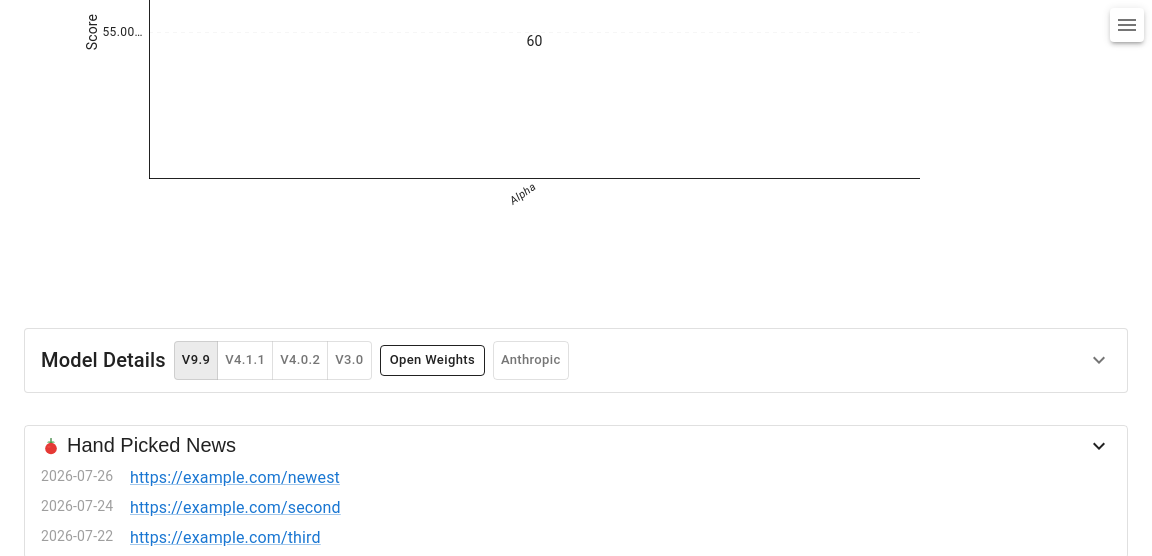
Test case: Dashboard › links from a historical chart view to the expanded historical charts section
(page scrolled)
Check: the link "Scores and costs predate the current index version" is not shown
Click the button "v3.0": (349, 360) [327,341,372,380]
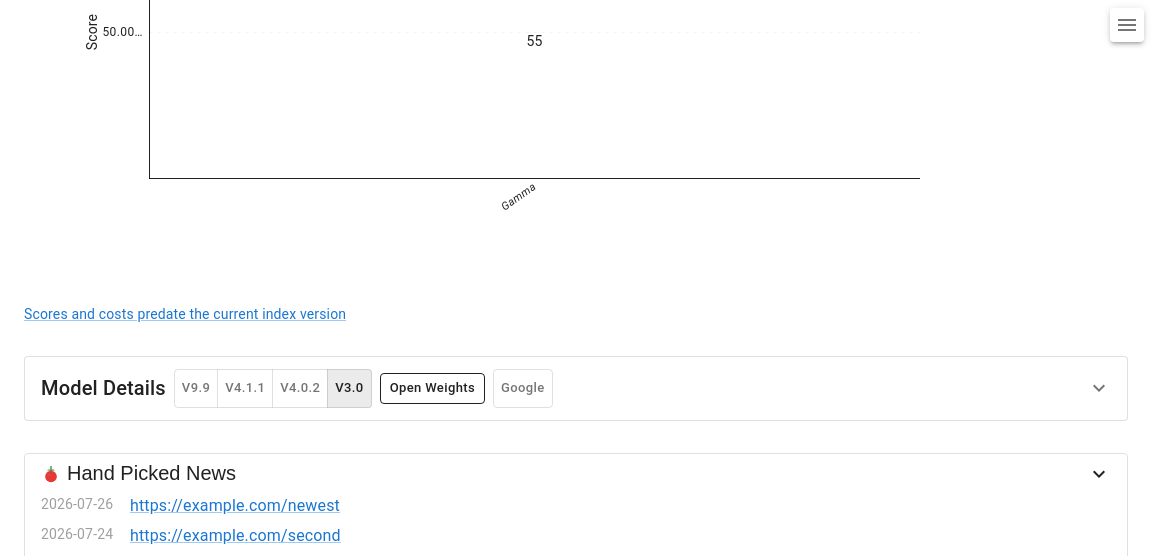
Click the link "Scores and costs predate the current index version": (185, 314) [24,306,346,322]
(page scrolled)
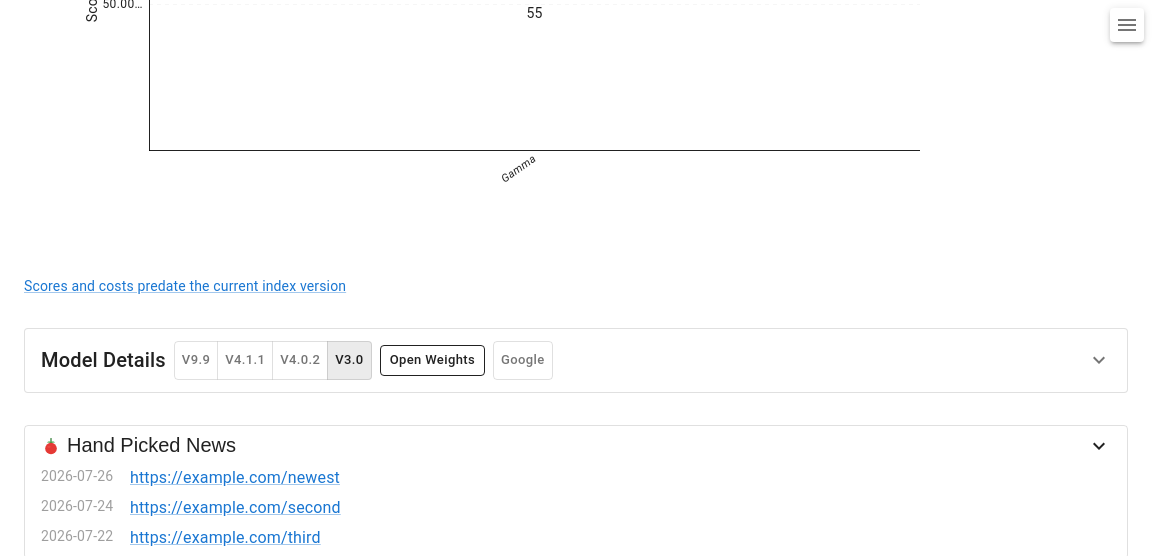
# The other captured versions show the note too.
Click the button "v4.0.2": (300, 360) [272,341,328,380]
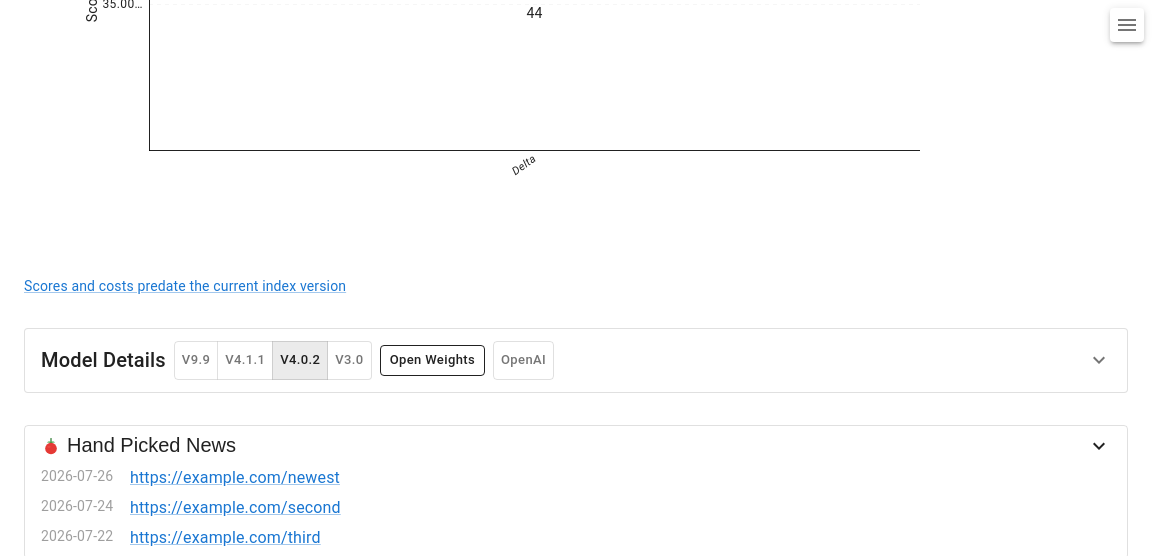
Check: the link "Scores and costs predate the current index version" is shown, box [24,278,346,294]
Click the button "v4.1.1": (245, 360) [217,341,273,380]
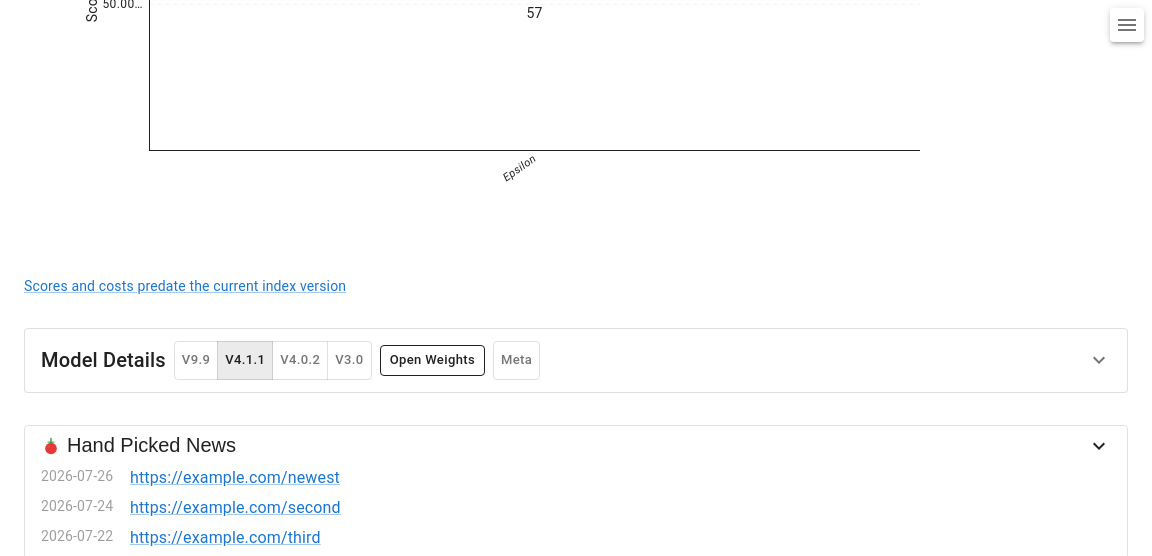
Check: the link "Scores and costs predate the current index version" is shown, box [24,278,346,294]
# Returning to the newest version hides the note again.
Click the button "v9.9": (196, 360) [174,341,218,380]
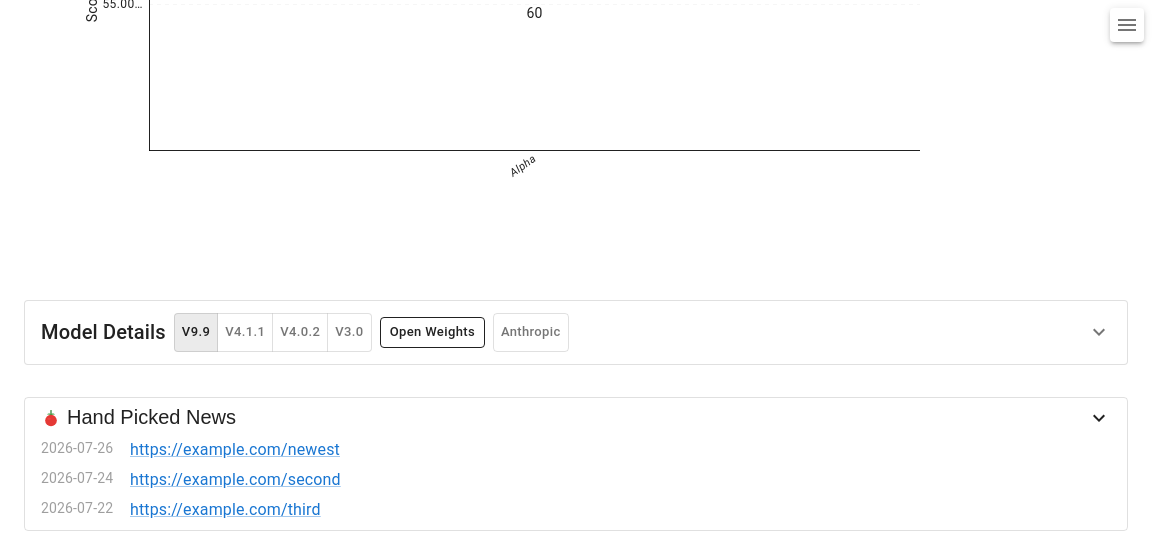
Check: the link "Scores and costs predate the current index version" is gone
